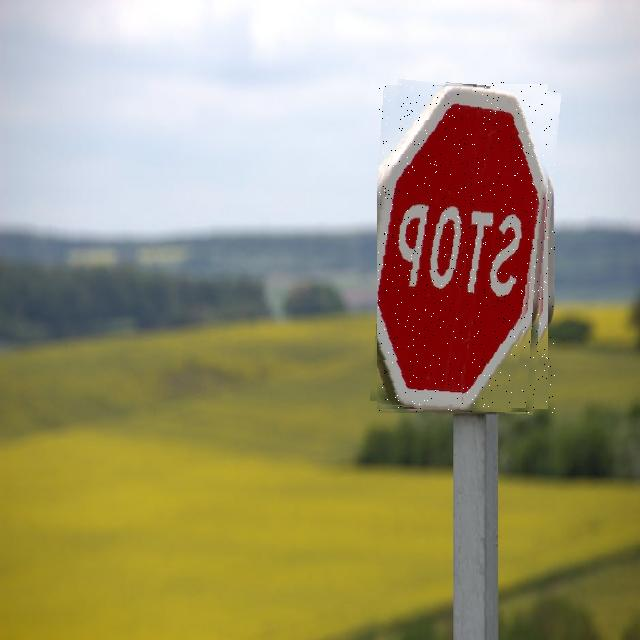stop: (377, 82, 555, 413)
